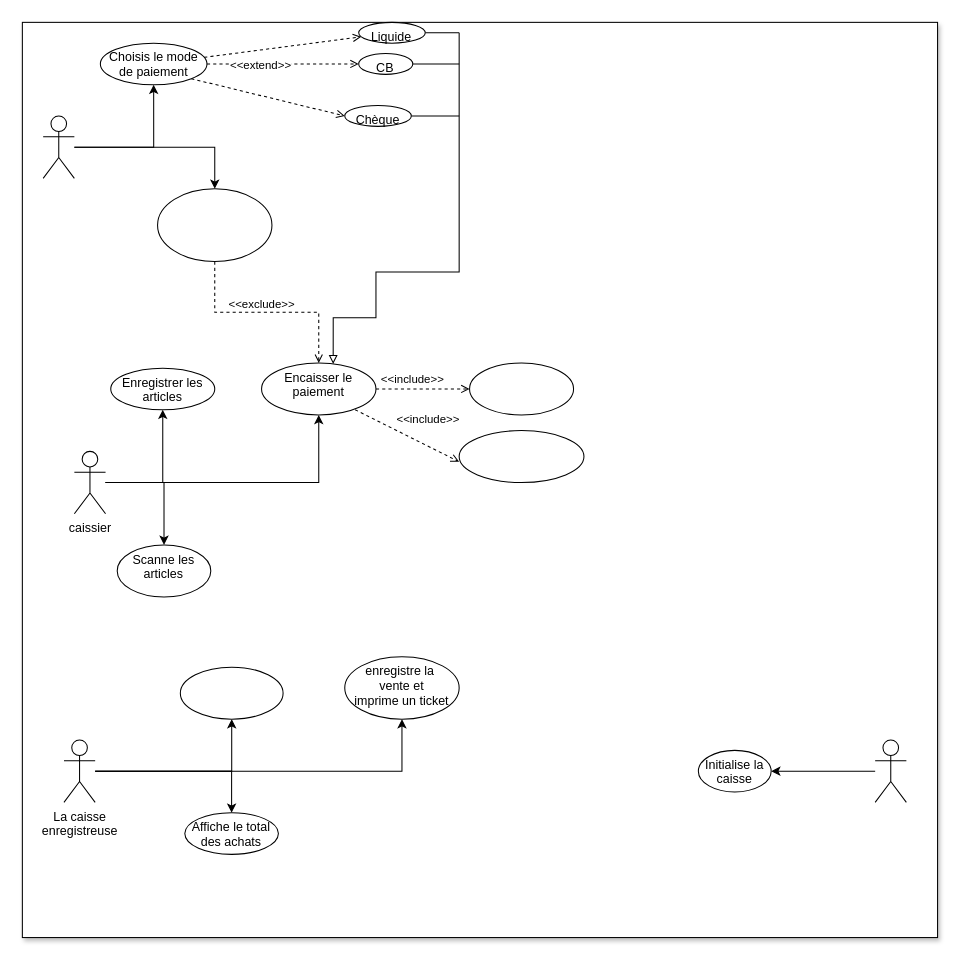
The diagram is 962 pixels wide and 963 high, and some of its shapes have lost their labels. Each missing label, with the centre of its shape:
Affiche chaque article et son libellé: pixel 231 692
Afficher le total des achats: pixel 521 388
Client: pixel 58 146
Donne au client le ticket: pixel 521 456
Présente un ticket de réduction avant le paiement: pixel 214 225
Responsable magasin: pixel 890 770
